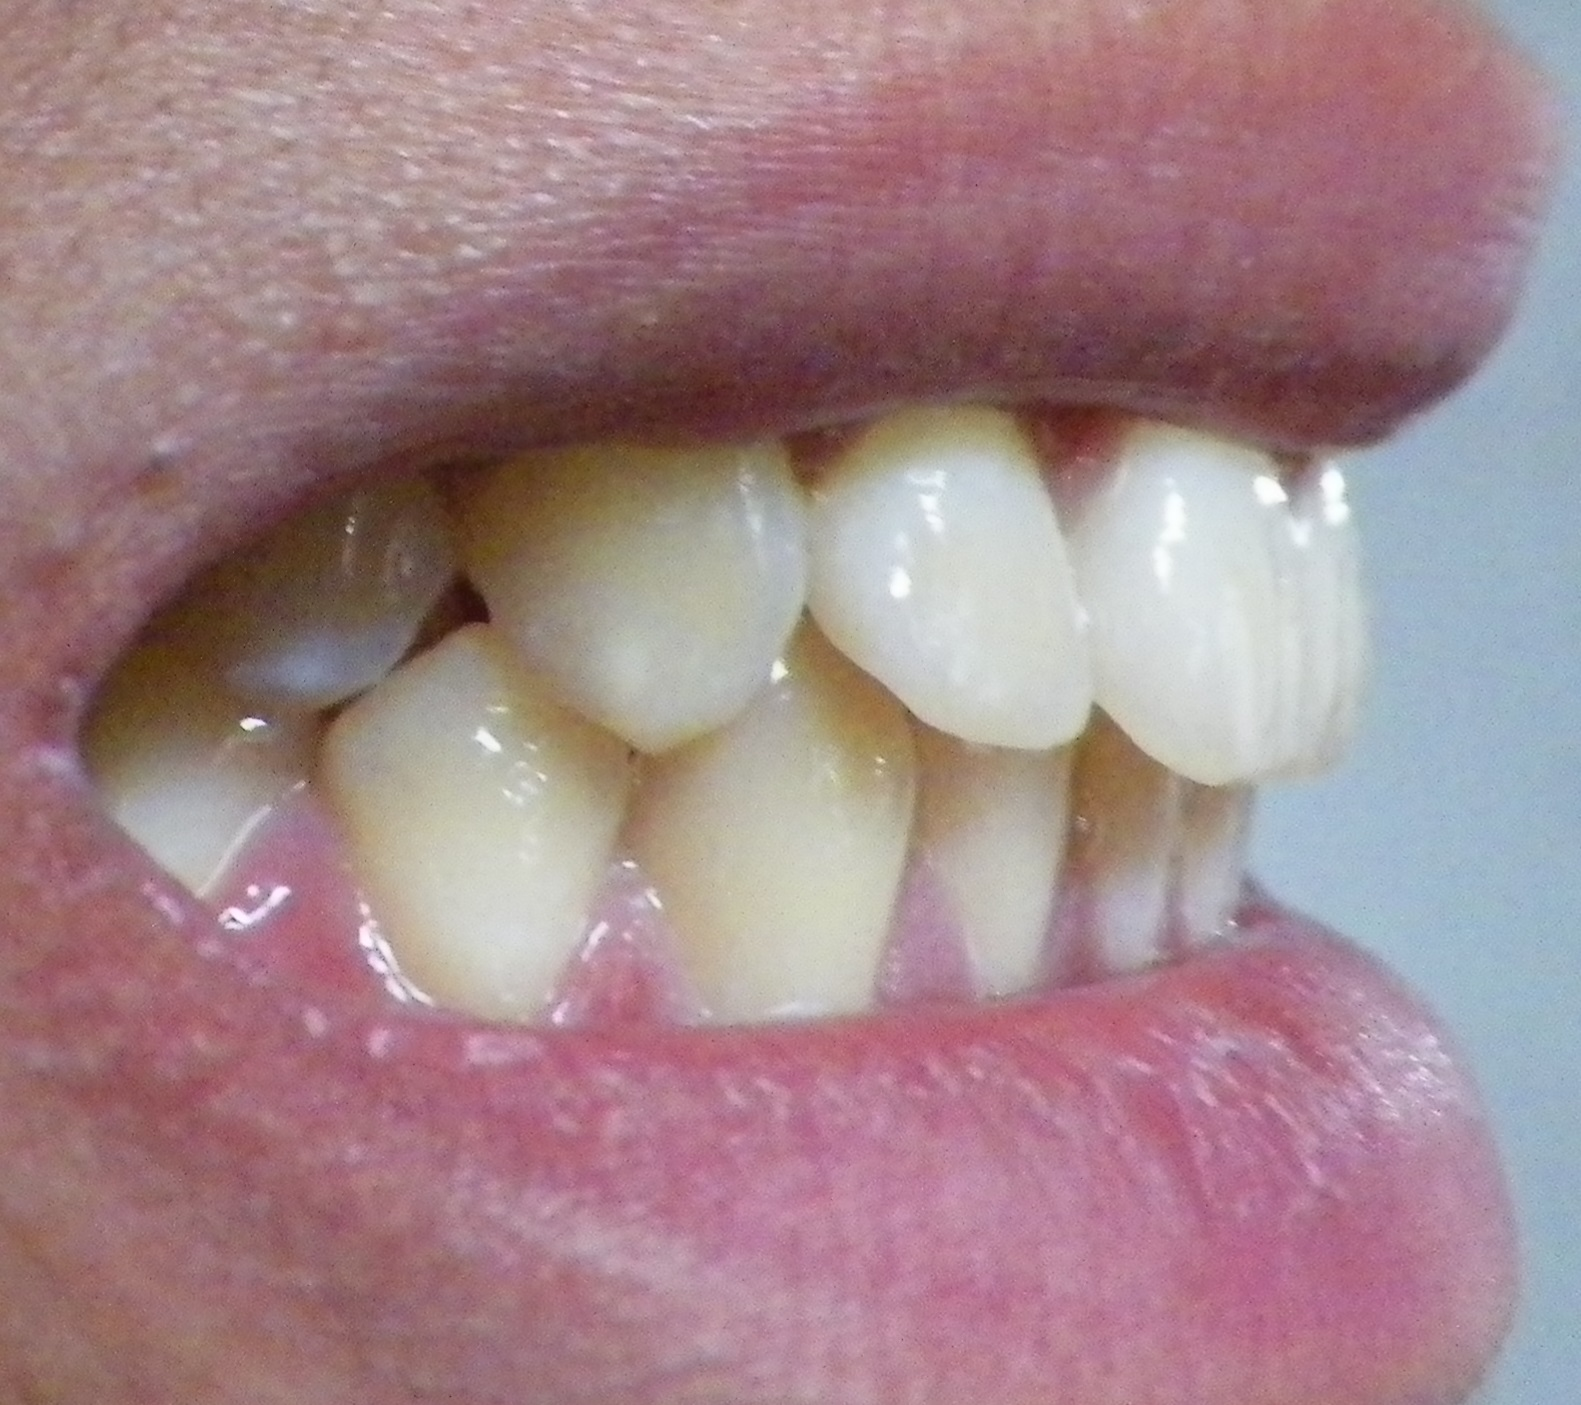boca: (88, 426, 1380, 998)
